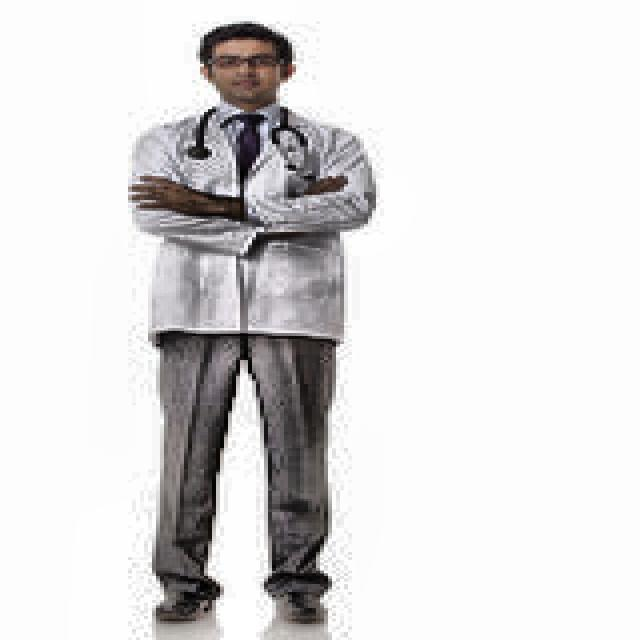Human: (101, 19, 397, 636)
